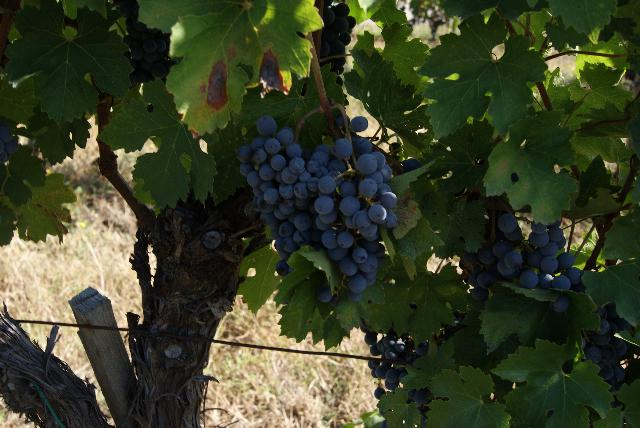grapes: (238, 116, 331, 276), (310, 139, 398, 301), (464, 212, 585, 300)
